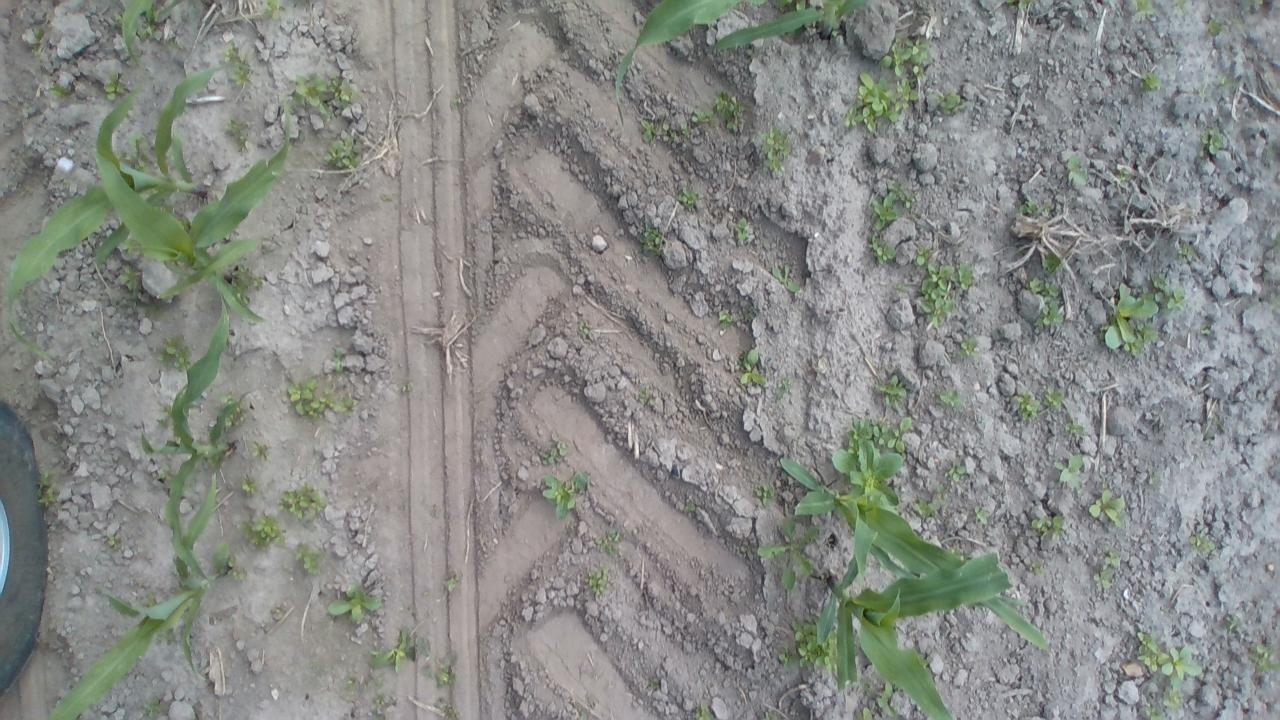Maize: (2, 62, 258, 363), (776, 456, 1052, 653), (94, 83, 292, 324), (42, 473, 231, 720), (818, 528, 1012, 720), (614, 0, 865, 129), (140, 286, 238, 579), (120, 0, 209, 65)
Weeds: (830, 414, 912, 506), (842, 72, 919, 134), (1098, 281, 1159, 355), (758, 518, 819, 590), (919, 262, 972, 327), (791, 614, 837, 676), (877, 34, 931, 80), (542, 472, 593, 520), (414, 634, 456, 687), (368, 626, 414, 674), (327, 586, 382, 624), (870, 182, 914, 229), (1025, 276, 1063, 327), (236, 514, 286, 552), (1158, 645, 1202, 688), (113, 130, 153, 174), (293, 72, 331, 118), (278, 484, 326, 520), (286, 378, 326, 420), (758, 124, 792, 172), (322, 132, 360, 174), (1089, 489, 1127, 528), (1150, 273, 1186, 314), (230, 263, 264, 304), (155, 334, 192, 371), (714, 90, 744, 132), (224, 40, 252, 85), (912, 485, 946, 519), (737, 348, 766, 386), (1134, 629, 1159, 673), (124, 292, 164, 319), (294, 542, 326, 575), (329, 74, 359, 109), (877, 374, 907, 408), (1054, 453, 1082, 489), (538, 433, 568, 464), (1249, 644, 1280, 674), (324, 387, 356, 416), (638, 221, 665, 255), (1030, 514, 1064, 540), (771, 264, 801, 293), (869, 234, 898, 264), (36, 470, 58, 505), (1065, 154, 1089, 186), (878, 680, 898, 718), (934, 92, 966, 115), (1200, 126, 1226, 154), (118, 264, 144, 292), (1014, 198, 1054, 216), (1190, 530, 1215, 558), (1017, 391, 1040, 421), (595, 530, 621, 556), (225, 556, 248, 583), (586, 567, 609, 594), (104, 70, 124, 100), (139, 8, 158, 39), (938, 388, 962, 410), (676, 186, 699, 208), (1138, 72, 1162, 93), (754, 482, 774, 507), (261, 0, 286, 20), (1042, 386, 1064, 408), (1042, 252, 1064, 274), (957, 337, 979, 358), (912, 245, 932, 268), (1144, 701, 1168, 720), (641, 118, 658, 144), (224, 404, 245, 425), (1162, 688, 1184, 708), (371, 692, 386, 720), (693, 700, 714, 720), (1093, 568, 1113, 589), (734, 216, 750, 241), (143, 698, 162, 719), (331, 348, 346, 374), (690, 108, 714, 124), (440, 701, 460, 720), (944, 462, 964, 481), (250, 441, 268, 461), (442, 574, 462, 592), (1104, 548, 1122, 568), (1004, 0, 1034, 12), (28, 26, 40, 56), (156, 628, 177, 645), (224, 118, 247, 133), (241, 476, 258, 496), (778, 646, 792, 670), (859, 677, 875, 698), (1134, 0, 1156, 15), (773, 378, 791, 396), (1177, 243, 1196, 260), (363, 676, 384, 691), (662, 122, 679, 140), (49, 83, 68, 98), (1063, 422, 1083, 436), (1217, 74, 1237, 88), (142, 591, 158, 608), (718, 310, 734, 327), (949, 545, 966, 561), (974, 505, 988, 524), (156, 464, 172, 480), (177, 215, 192, 231), (1208, 18, 1222, 35), (856, 707, 874, 720), (235, 132, 248, 150), (140, 186, 159, 198), (344, 677, 359, 692), (1174, 0, 1188, 16), (1270, 290, 1280, 312), (1029, 561, 1043, 576), (1117, 168, 1132, 182), (220, 393, 234, 408), (108, 534, 121, 550), (308, 659, 324, 672), (1226, 616, 1237, 633), (638, 387, 651, 400), (578, 320, 590, 334), (450, 93, 460, 109), (578, 707, 590, 720), (402, 381, 415, 393), (680, 123, 691, 137), (1196, 84, 1208, 96), (156, 418, 168, 430), (162, 202, 174, 213), (1199, 324, 1211, 335), (114, 12, 125, 24), (683, 502, 696, 512), (764, 711, 778, 720), (1230, 16, 1244, 24), (649, 680, 660, 690), (1149, 470, 1159, 481), (161, 405, 171, 416), (182, 481, 190, 494), (169, 40, 179, 50), (91, 329, 102, 338), (896, 283, 906, 292), (1245, 0, 1263, 5), (381, 194, 393, 201), (744, 312, 754, 320), (62, 178, 70, 188), (977, 417, 985, 422)
